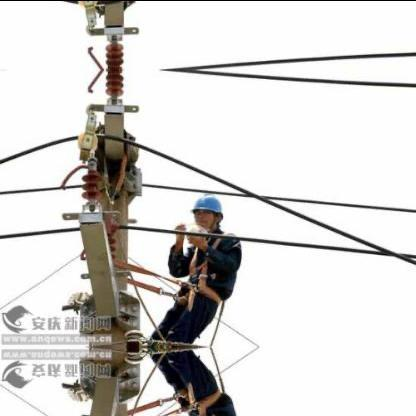Helmet: (188, 191, 226, 229)
